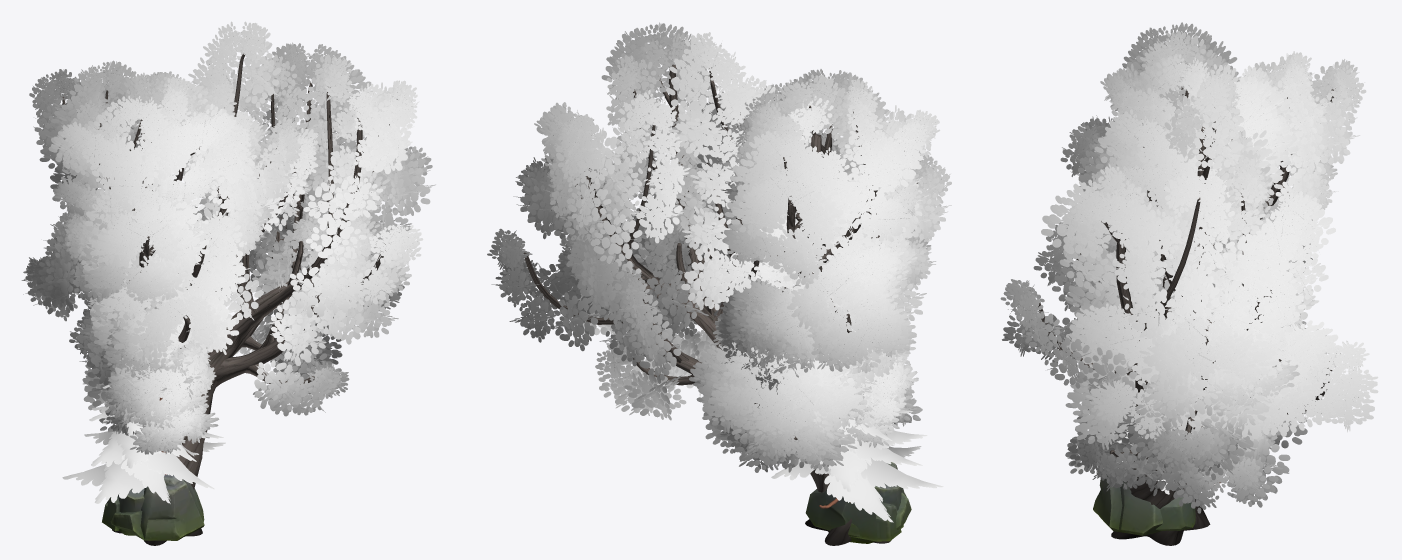
Rendered from n_nature.glb.
The picture shows the model from 3 angles, left to right: view 1: azimuth 30°, elevation 25°; view 2: azimuth 150°, elevation 25°; view 3: azimuth 270°, elevation 25°; orthographic projection. The views are drawn at different scales.
Parts seen in each view (by area): view 1: TwistedTree_1, TwistedTree_5, Pine_2, CommonTree_3, CommonTree_1, Rock_Medium_1, Rock_Medium_2; view 2: TwistedTree_1, TwistedTree_5, Pine_2, Rock_Medium_2, CommonTree_1, CommonTree_3, Rock_Medium_1; view 3: TwistedTree_1, TwistedTree_5, Rock_Medium_1, Rock_Medium_2.
Part boxes in pixels (x1,y1,x2,y2): TwistedTree_1: [69, 21, 435, 545]; TwistedTree_5: [21, 60, 305, 355]; Pine_2: [62, 354, 225, 503]; CommonTree_3: [106, 291, 216, 452]; CommonTree_1: [99, 340, 219, 454]; Rock_Medium_1: [110, 474, 204, 540]; Rock_Medium_2: [102, 488, 144, 535]; TwistedTree_1: [487, 22, 931, 545]; TwistedTree_5: [695, 69, 951, 397]; Pine_2: [771, 355, 943, 522]; Rock_Medium_2: [805, 483, 903, 541]; CommonTree_1: [839, 351, 922, 447]; CommonTree_3: [849, 294, 915, 428]; Rock_Medium_1: [848, 462, 911, 543]; TwistedTree_1: [1000, 64, 1378, 545]; TwistedTree_5: [1060, 22, 1366, 330]; Rock_Medium_1: [1093, 473, 1162, 535]; Rock_Medium_2: [1156, 497, 1195, 530].
Size of the model in its own units: 15.09 by 16.8 by 11.55.
9 materials, 9 textured.
